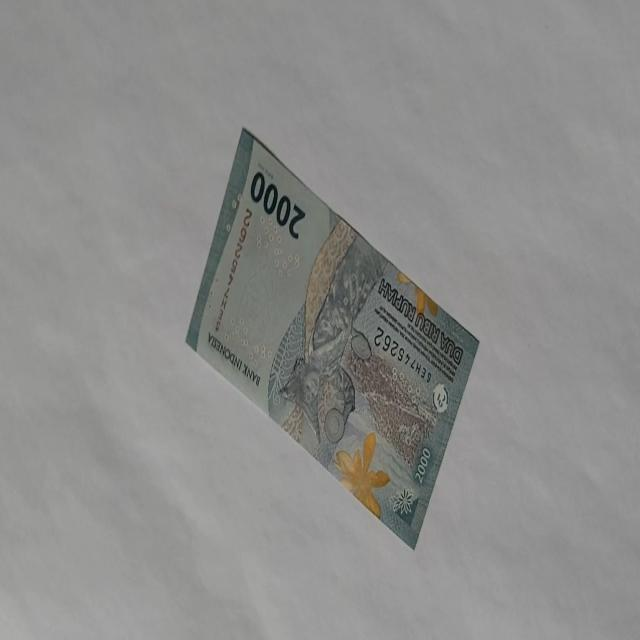dua ribu rupiah: (185, 126, 480, 550), (332, 430, 390, 519)
